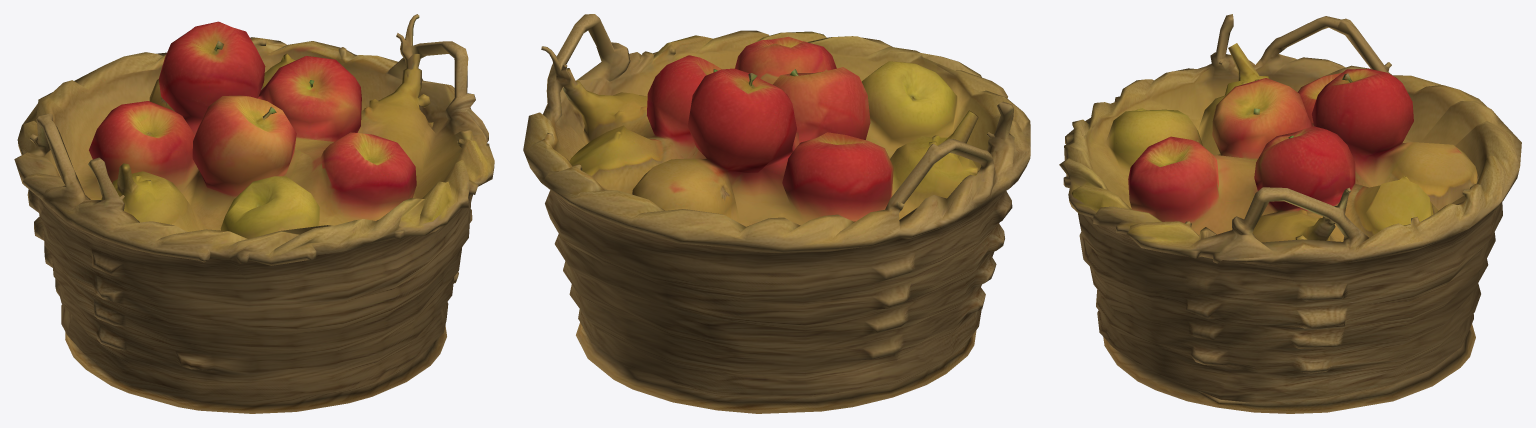
File: cesta.fbx
The picture shows the model from 3 angles, left to right: view 1: azimuth 30°, elevation 25°; view 2: azimuth 150°, elevation 25°; view 3: azimuth 270°, elevation 25°; orthographic projection. The views are drawn at different scales.
Visible parts, largest first — view 1: tripo_node_09d34b7e; view 2: tripo_node_09d34b7e; view 3: tripo_node_09d34b7e.
Boxes of the visible parts, x1,y1,x2,y2 form: tripo_node_09d34b7e: (14,14,494,413); tripo_node_09d34b7e: (523,14,1030,413); tripo_node_09d34b7e: (1059,14,1521,413).
Bounding box in the file's own units: 0.9995 × 0.6265 × 0.9946.
Materials: 1 (1 with a texture image).
